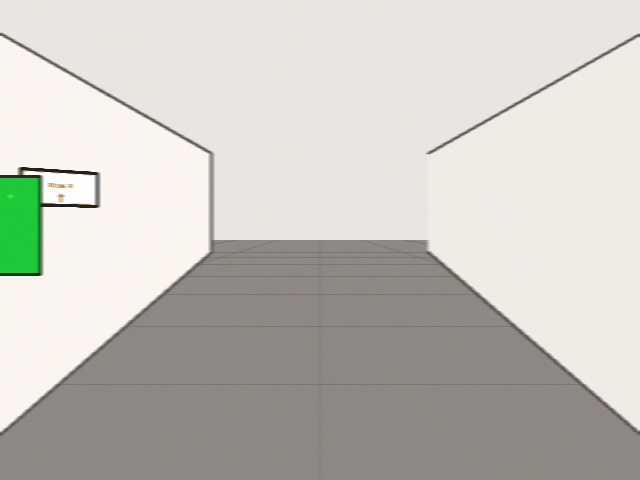charging_station: (0, 176, 40, 274)
directional_sign: (20, 168, 97, 206)
